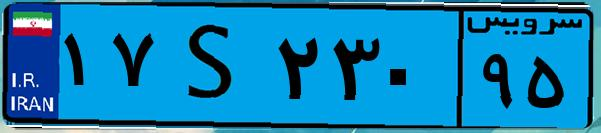0: (385, 28, 445, 110)
1: (57, 26, 110, 100)
2: (270, 28, 330, 110)
3: (330, 28, 385, 110)
5: (525, 38, 570, 115)
7: (110, 28, 158, 98)
9: (475, 38, 525, 113)
S: (158, 12, 270, 120)
